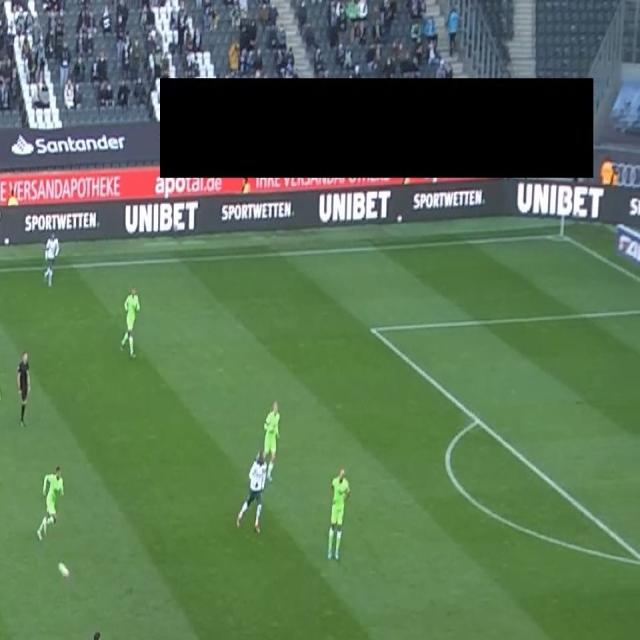ball: (57, 560, 70, 579)
